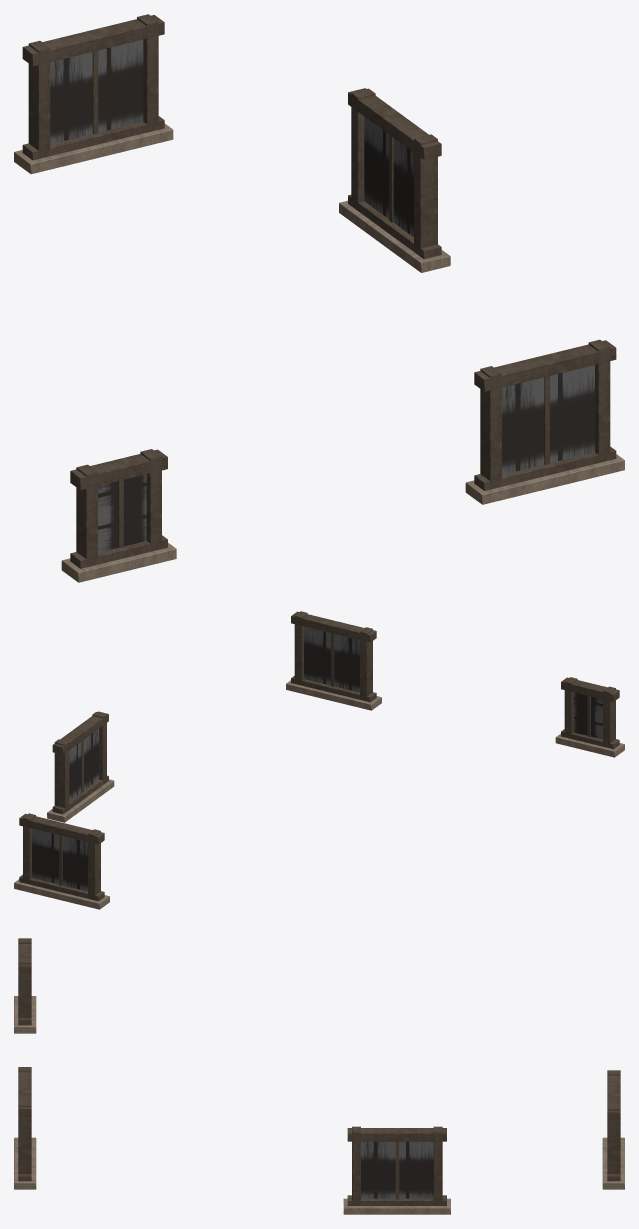
Rendered from BW_MillerCottage01_Windows.fbx.
3 views of the same model, one above another, from view 1: azimuth 30°, elevation 25°; view 2: azimuth 150°, elevation 25°; view 3: azimuth 270°, elevation 25° (orthographic). The views are drawn at different scales.
Visible parts, largest first — view 1: BW_MillerCottage01_Windows; view 2: BW_MillerCottage01_Windows; view 3: BW_MillerCottage01_Windows.
Boxes of the visible parts, left/top/right/bottom form: BW_MillerCottage01_Windows: left=14, top=14, right=624, bottom=582; BW_MillerCottage01_Windows: left=14, top=611, right=624, bottom=909; BW_MillerCottage01_Windows: left=14, top=938, right=624, bottom=1214.
Bounding box in the file's own units: 6.35 × 1.2 × 8.24.
